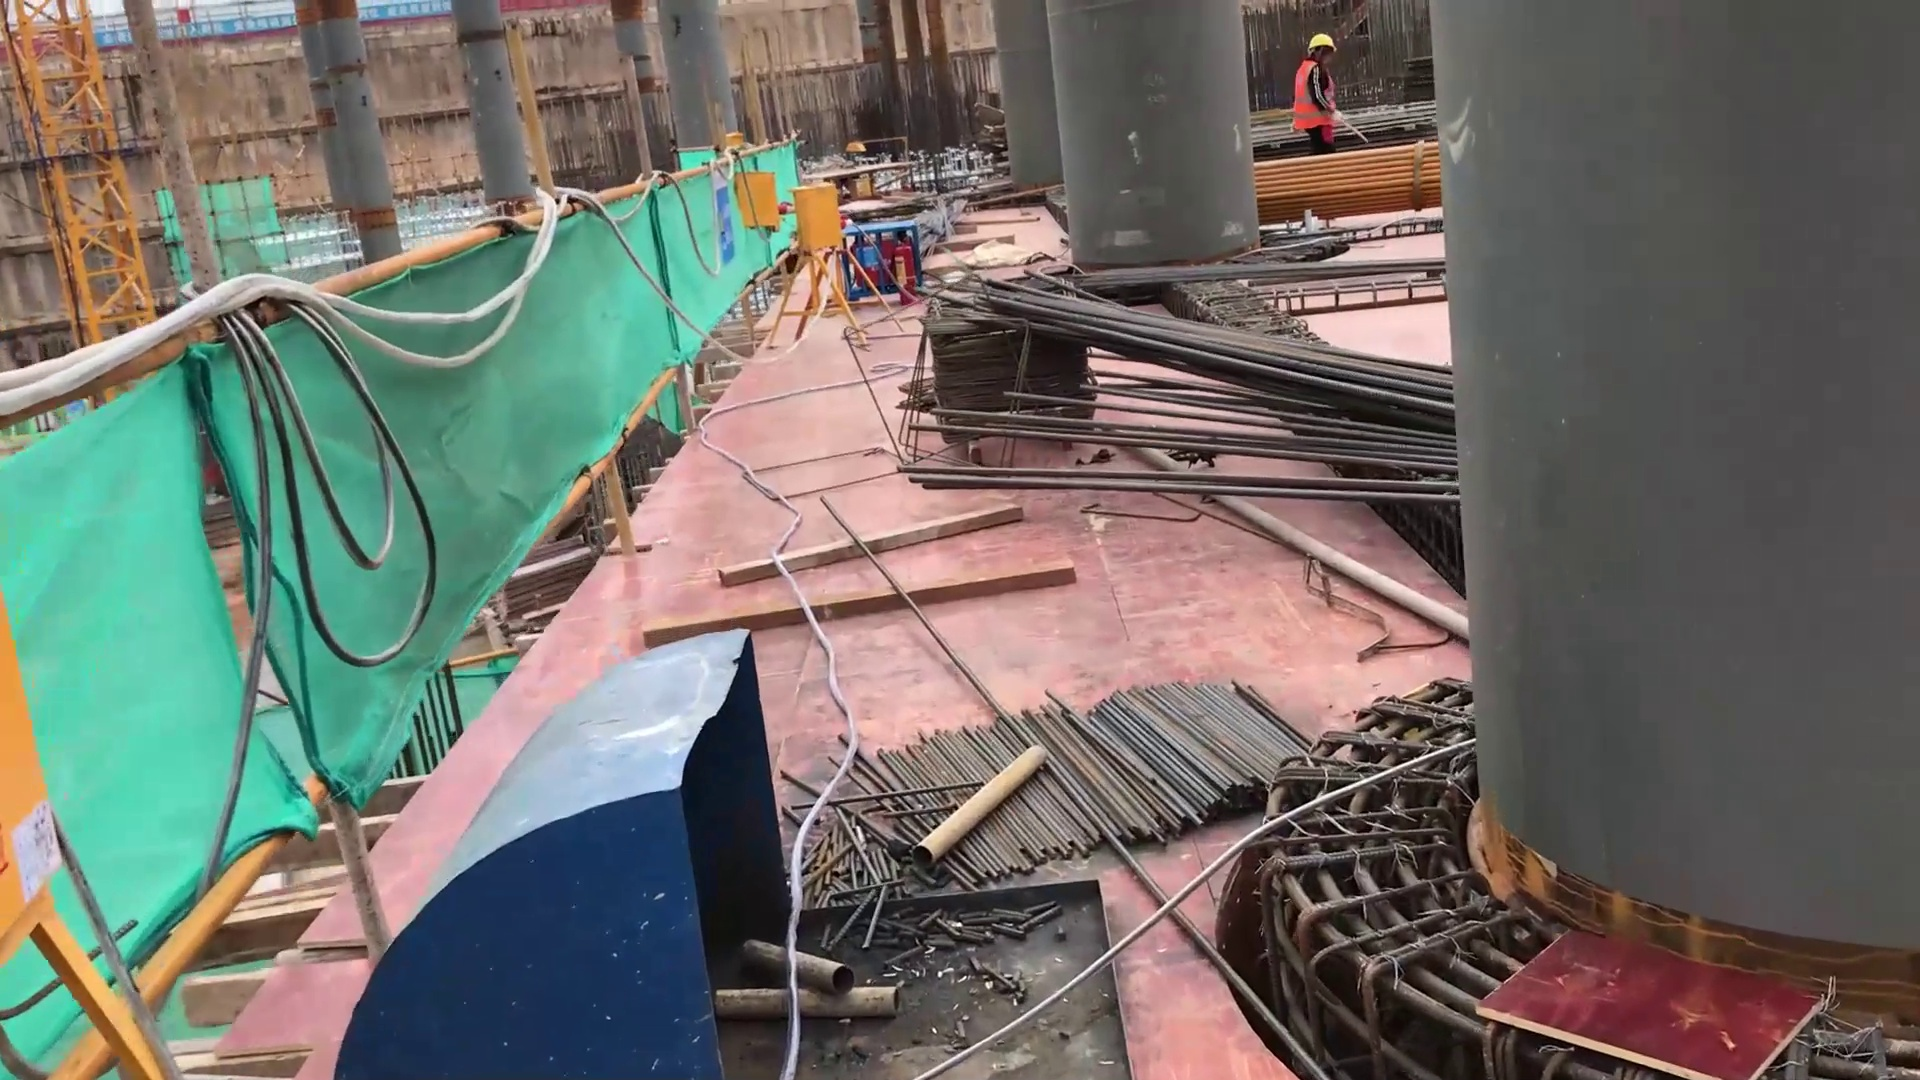board: (1403, 54, 1444, 109)
cutter: (822, 139, 910, 198)
ebox: (813, 184, 846, 271), (743, 169, 784, 227)
helmet: (1306, 30, 1338, 54)
person: (1286, 33, 1348, 140)
rebar: (919, 264, 1449, 556)
vest: (1293, 63, 1332, 130)
